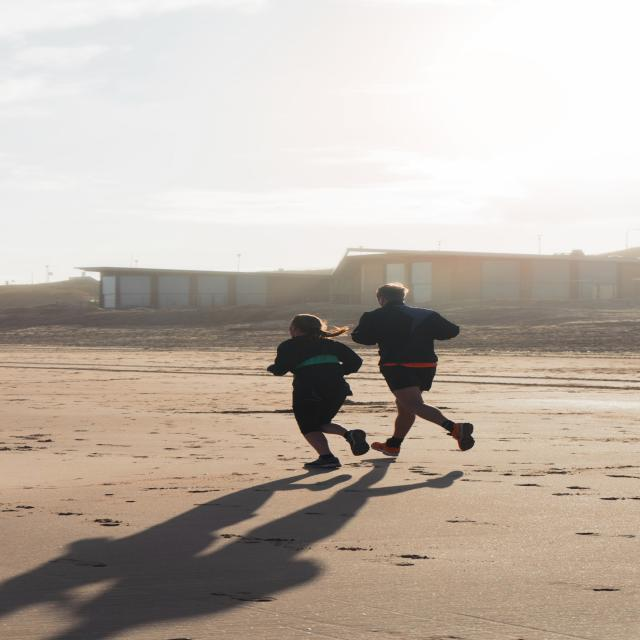adult: (351, 286, 476, 454), (265, 314, 371, 472)
